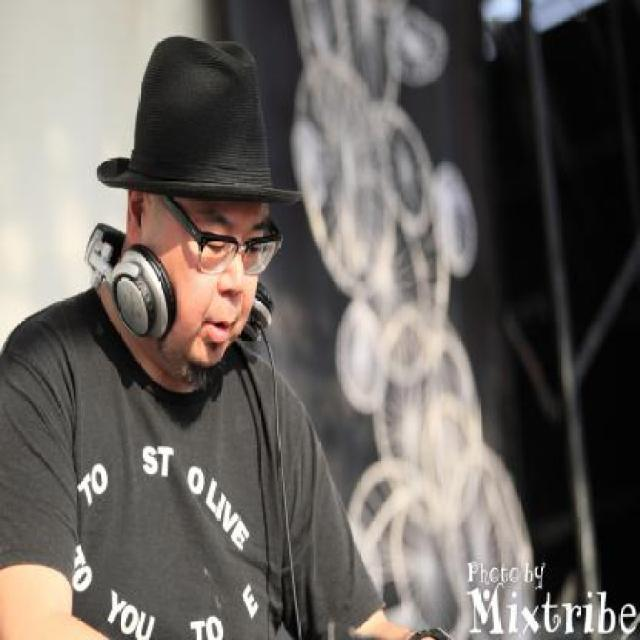earphone: (58, 190, 310, 360)
